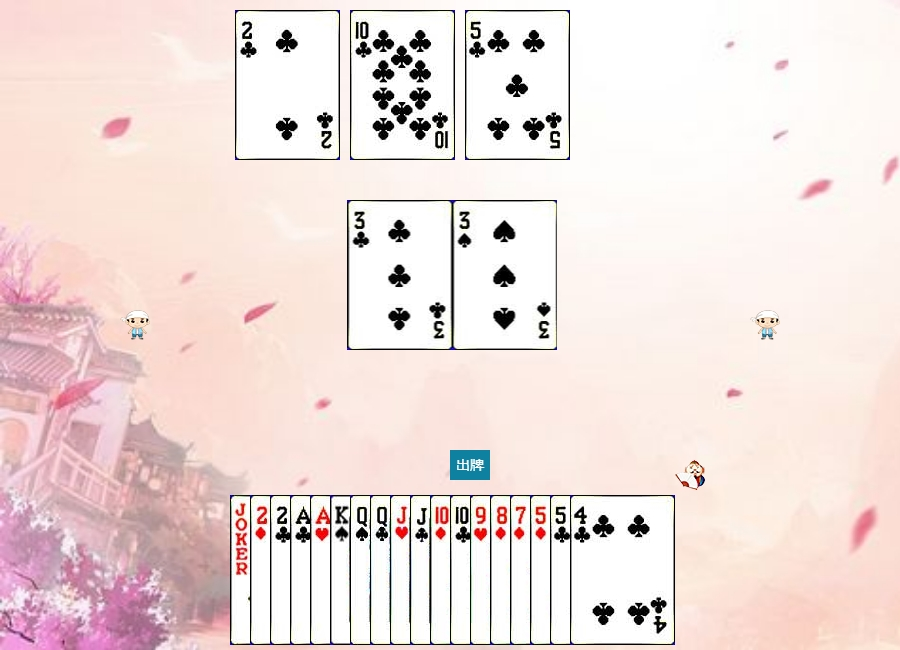10~1: (430, 495, 535, 645)
10~2: (350, 10, 455, 160), (450, 495, 555, 645)
11~2: (410, 495, 515, 645)
11~3: (390, 495, 495, 645)
12~2: (370, 495, 475, 645)
12~4: (350, 495, 455, 645)
13~4: (330, 495, 435, 645)
14~2: (290, 495, 395, 645)
14~3: (310, 495, 415, 645)
15~1: (250, 495, 355, 645)
15~2: (235, 10, 340, 160), (270, 495, 375, 645)
18~4: (230, 495, 335, 645)
3~2: (348, 200, 453, 350)
3~4: (453, 200, 558, 350)
4~2: (570, 495, 675, 645)
5~1: (530, 495, 635, 645)
5~2: (465, 10, 570, 160), (550, 495, 655, 645)
7~1: (510, 495, 615, 645)
8~1: (490, 495, 595, 645)
9~3: (470, 495, 575, 645)
